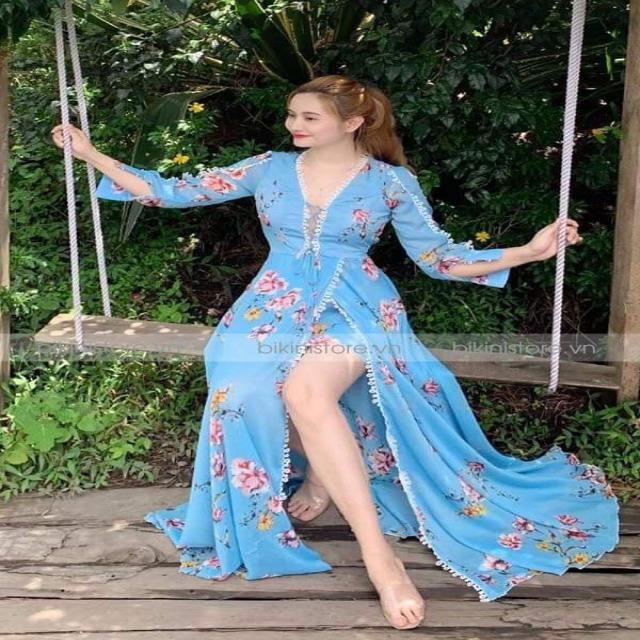clothes: (199, 145, 519, 571)
